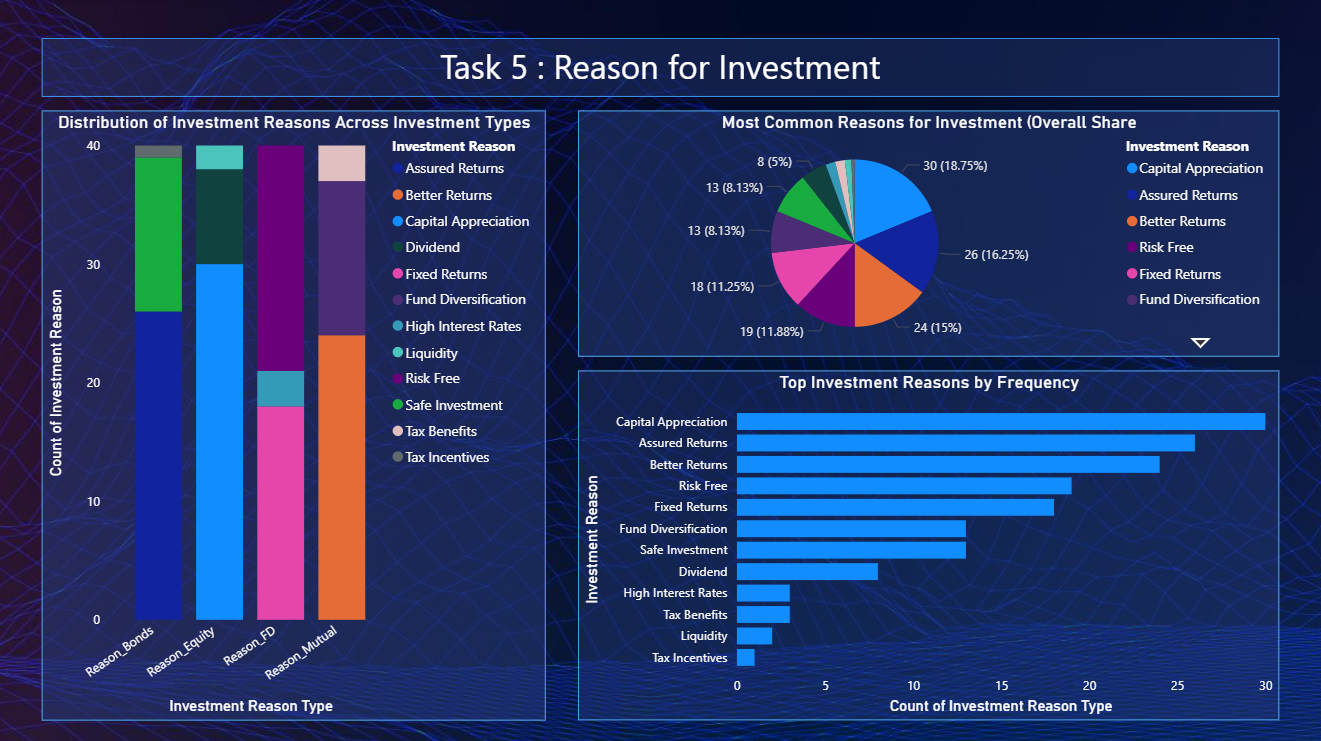

Layout of this report page (visuals, bound fields, positions):
{"tool":"powerbi","page":{"name":"Task 5","canvas":[1280,720],"ordinal":4},"visuals":[{"type":"textbox","box":[42.2,38.6,1194.4,56.7],"z":0},{"type":"clusteredBarChart","title":"Top Investment Reasons by Frequency","fields":{"Y":["CountNonNull(Data_set 2 - Copy.Investment Reason Type)"],"Category":["Data_set 2 - Copy.Investment Reason"]},"box":[559.8,359.5,676.8,337.8],"z":1000},{"type":"columnChart","title":"Distribution of Investment Reasons Across Investment Types","fields":{"Y":["CountNonNull(Data_set 2 - Copy.Investment Reason)"],"Category":["Data_set 2 - Copy.Investment Reason Type"],"Series":["Data_set 2 - Copy.Investment Reason"]},"box":[42.2,108.6,486.2,588.7],"z":2000},{"type":"pieChart","title":"Most Common Reasons for Investment (Overall Share","fields":{"Category":["Data_set 2 - Copy.Investment Reason"],"Y":["CountNonNull(Data_set 2 - Copy.Investment Reason Type)"]},"box":[559.8,108.6,676.8,237.7],"z":3000}]}

Visuals, with their boxes in screenshot pixels (x1, y1, x2, y2), scaled from the page's 1280x720 canvas onto the 1321x741 screenshot:
textbox: locate(44, 40, 1276, 98)
"Top Investment Reasons by Frequency" clusteredBarChart: locate(578, 370, 1276, 718)
"Distribution of Investment Reasons Across Investment Types" columnChart: locate(44, 112, 545, 718)
"Most Common Reasons for Investment (Overall Share" pieChart: locate(578, 112, 1276, 356)
